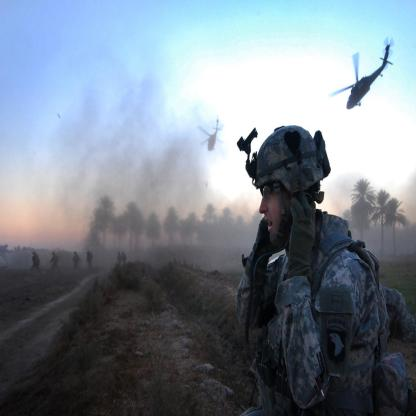Helmet: (249, 126, 329, 235)
